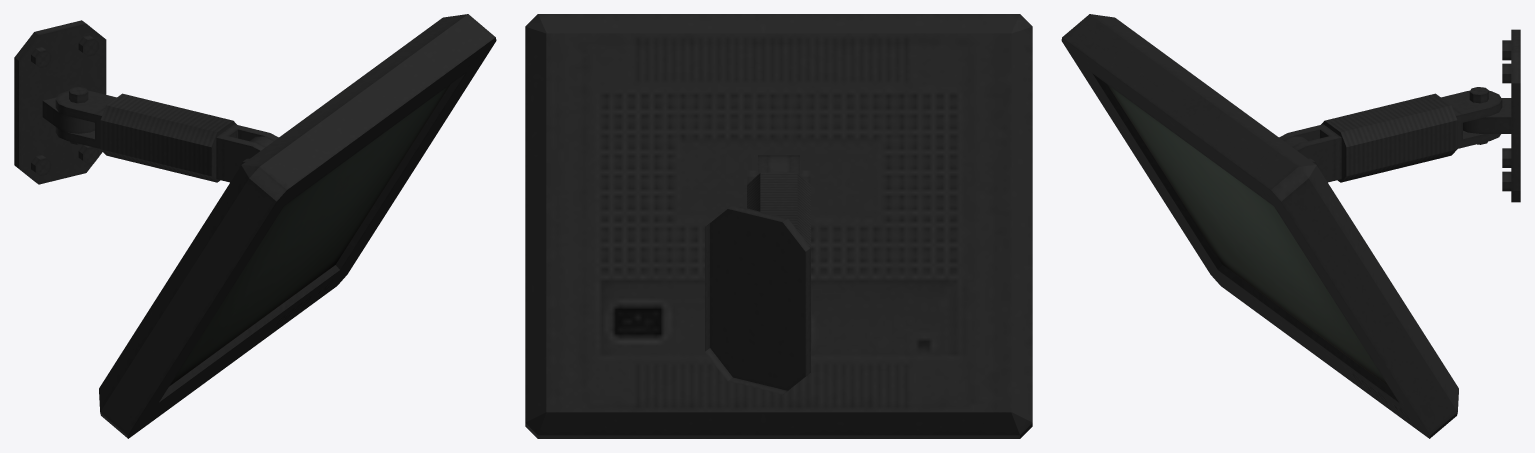
File: monitoring_screen_mp_1_1.obj
3 renders of one model, left to right at view 1: azimuth 30°, elevation 25°; view 2: azimuth 150°, elevation 25°; view 3: azimuth 270°, elevation 25°, orthographic. The views are drawn at different scales.
Parts seen in each view (by area): view 1: monitoring_screen_mp_1_1_display, monitoring_screen_mp_1_1_arm, monitoring_screen_mp_1_1; view 2: monitoring_screen_mp_1_1_display, monitoring_screen_mp_1_1, monitoring_screen_mp_1_1_arm; view 3: monitoring_screen_mp_1_1_display, monitoring_screen_mp_1_1_arm, monitoring_screen_mp_1_1.
Boxes of the visible parts, bbox=[...] form: monitoring_screen_mp_1_1_display: bbox=[99, 14, 496, 438]; monitoring_screen_mp_1_1_arm: bbox=[55, 87, 278, 182]; monitoring_screen_mp_1_1: bbox=[14, 20, 106, 184]; monitoring_screen_mp_1_1_display: bbox=[525, 14, 1032, 438]; monitoring_screen_mp_1_1: bbox=[705, 205, 810, 394]; monitoring_screen_mp_1_1_arm: bbox=[747, 155, 810, 247]; monitoring_screen_mp_1_1_display: bbox=[1061, 14, 1458, 438]; monitoring_screen_mp_1_1_arm: bbox=[1279, 87, 1502, 182]; monitoring_screen_mp_1_1: bbox=[1463, 29, 1520, 202].
Size of the model in its own units: 0.527 by 0.3664 by 0.5013.
